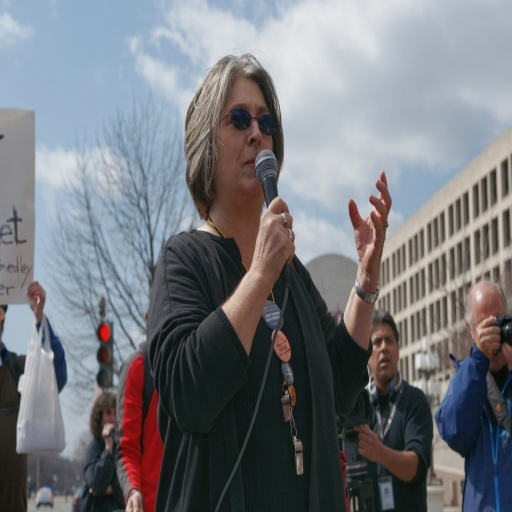hand: (345, 185, 400, 297), (247, 193, 296, 292), (476, 310, 502, 358), (353, 422, 382, 462), (25, 278, 47, 320), (102, 419, 117, 452), (124, 488, 142, 511), (501, 341, 511, 374)
